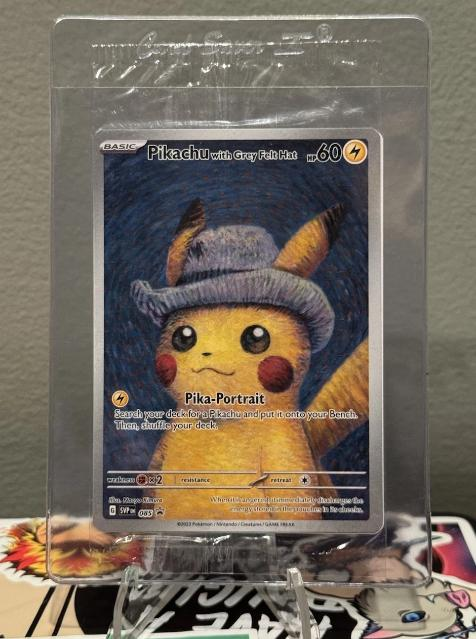Card: (91, 125, 386, 538)
Name: (145, 139, 303, 167)
